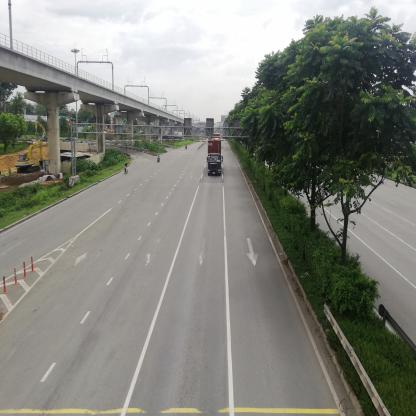container: (209, 142, 225, 177)
motorbike: (125, 163, 129, 175), (158, 153, 161, 164)
